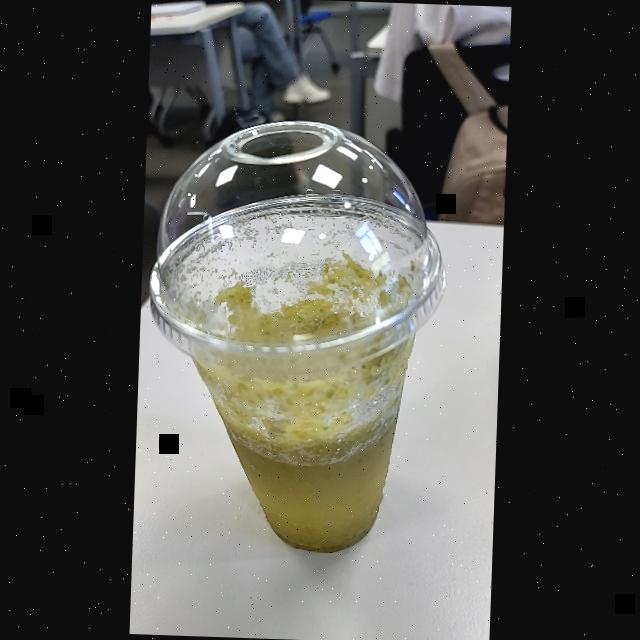plastic_cup: (137, 104, 450, 574)
plastic_cup_lid: (138, 108, 449, 384)
